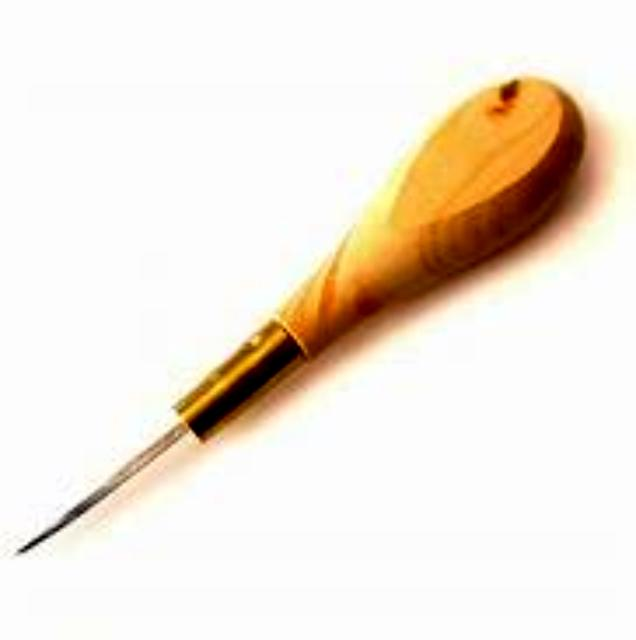ice pick: (15, 77, 592, 563)
